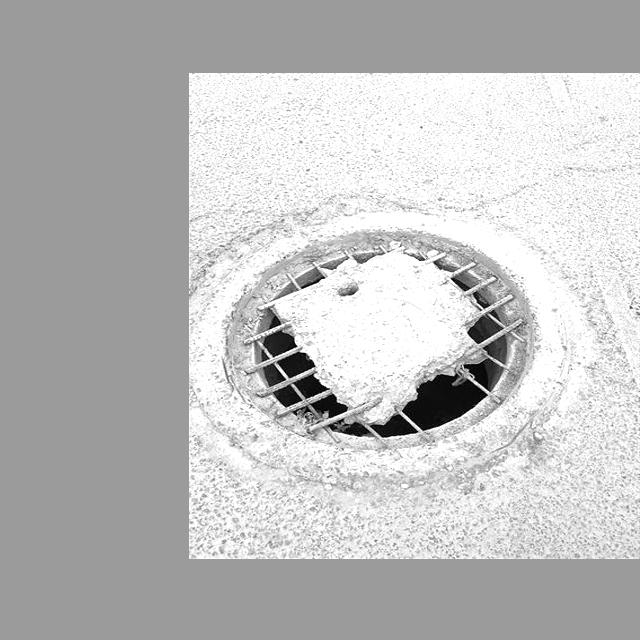broke: (206, 205, 556, 473)
